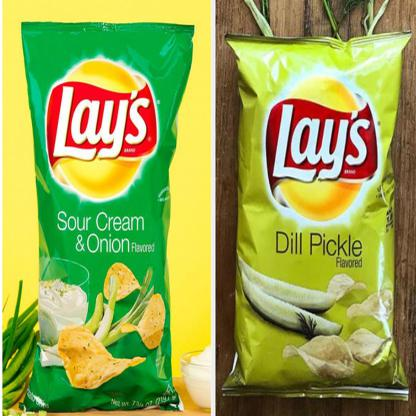potatochip: (218, 25, 416, 408), (15, 15, 199, 413)
